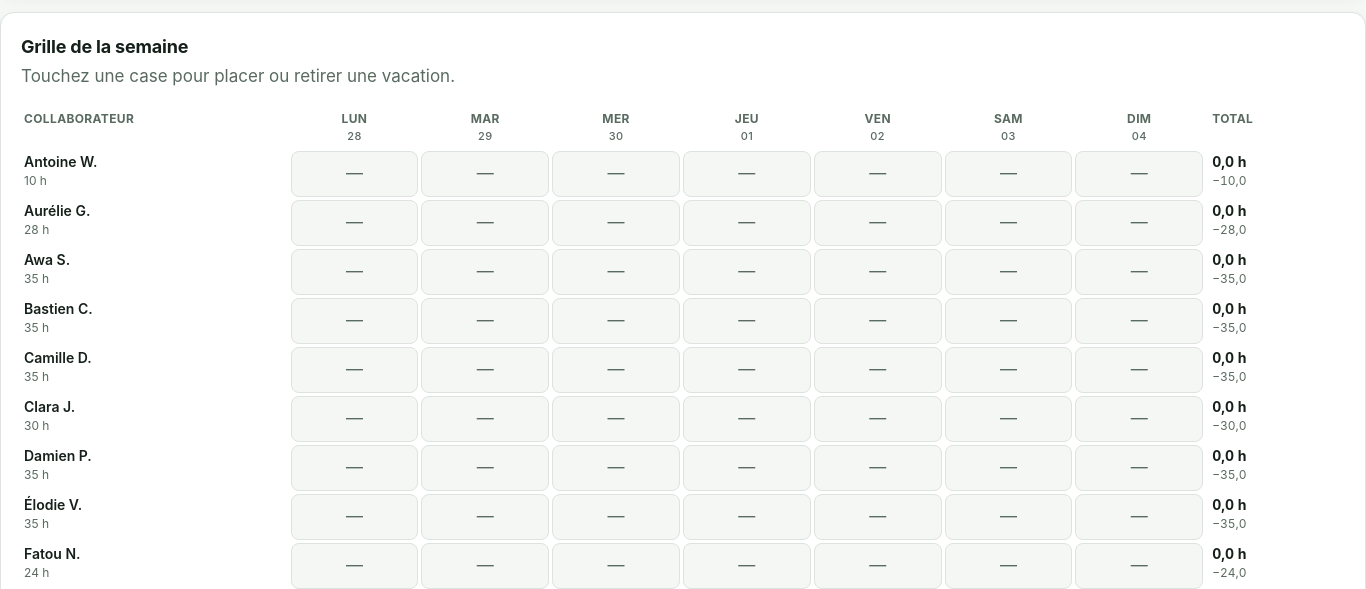
Test case: contenu du dossier à présenter › montre les indicateurs utiles au patron
(page scrolled)
Click the button named "Camille D., lundi".
click(354, 370)  # box [291,347,418,393]
(page scrolled)
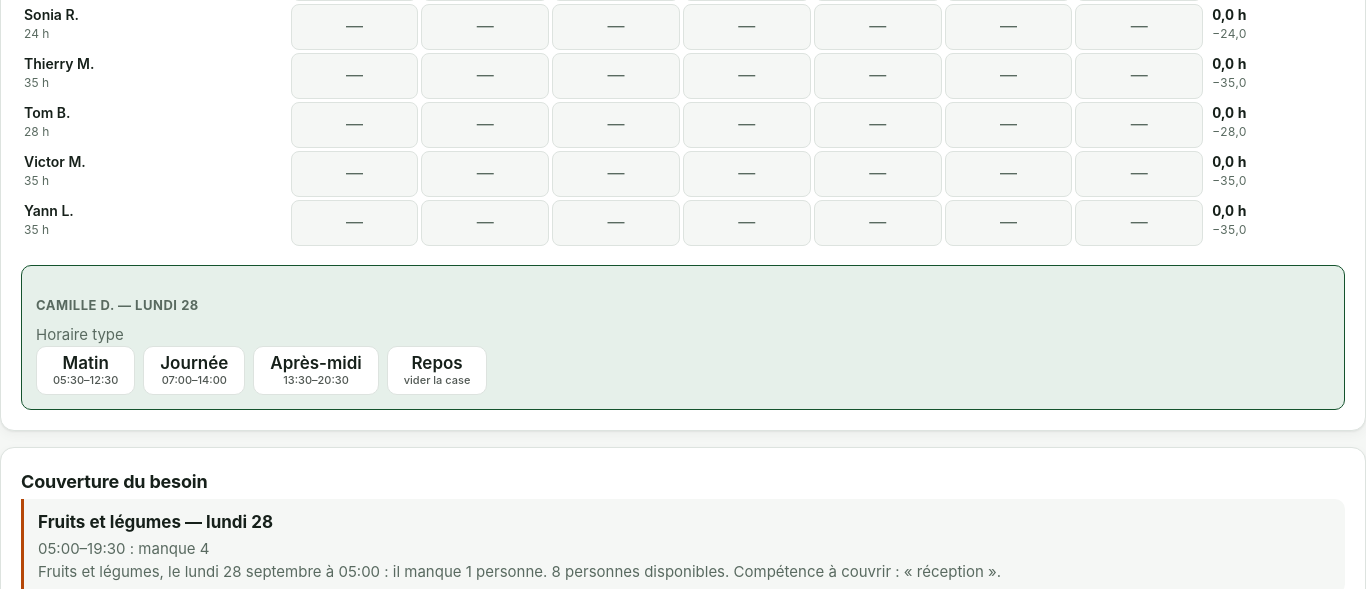
Click the button "Matin 05:30–12:30".
click(86, 370)  # box [36,346,135,395]
(page scrolled)
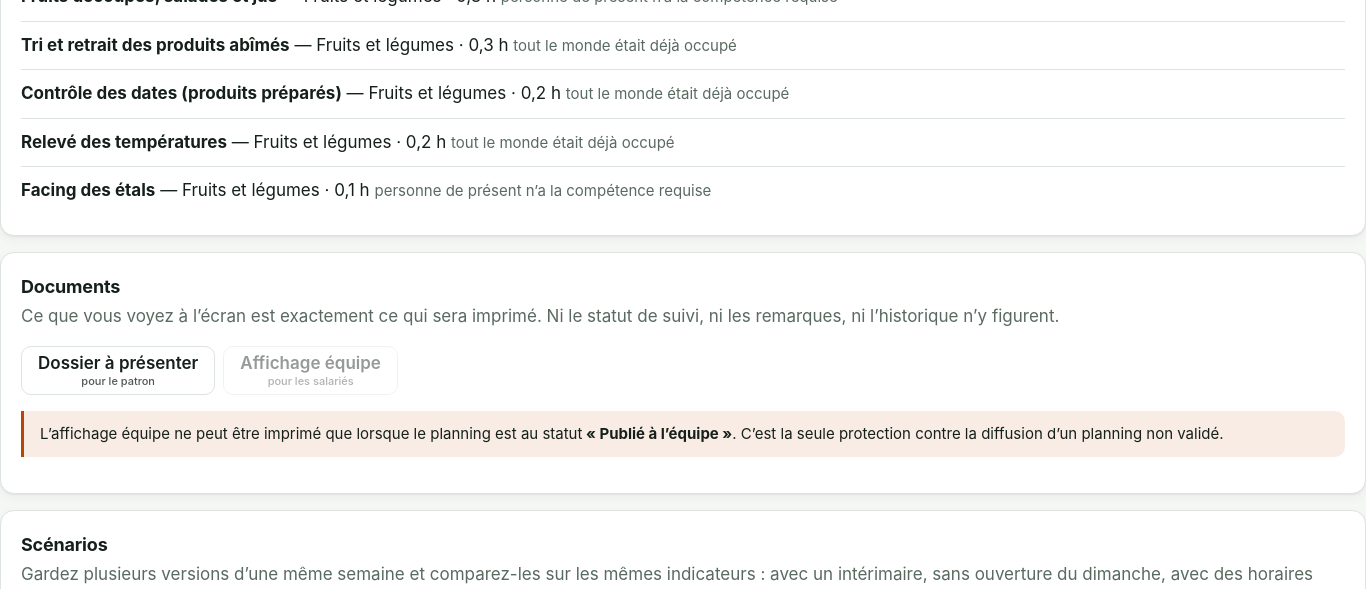
Click the button "Dossier à présenter pour le patron".
click(118, 370)  # box [21,346,215,395]
(page scrolled)
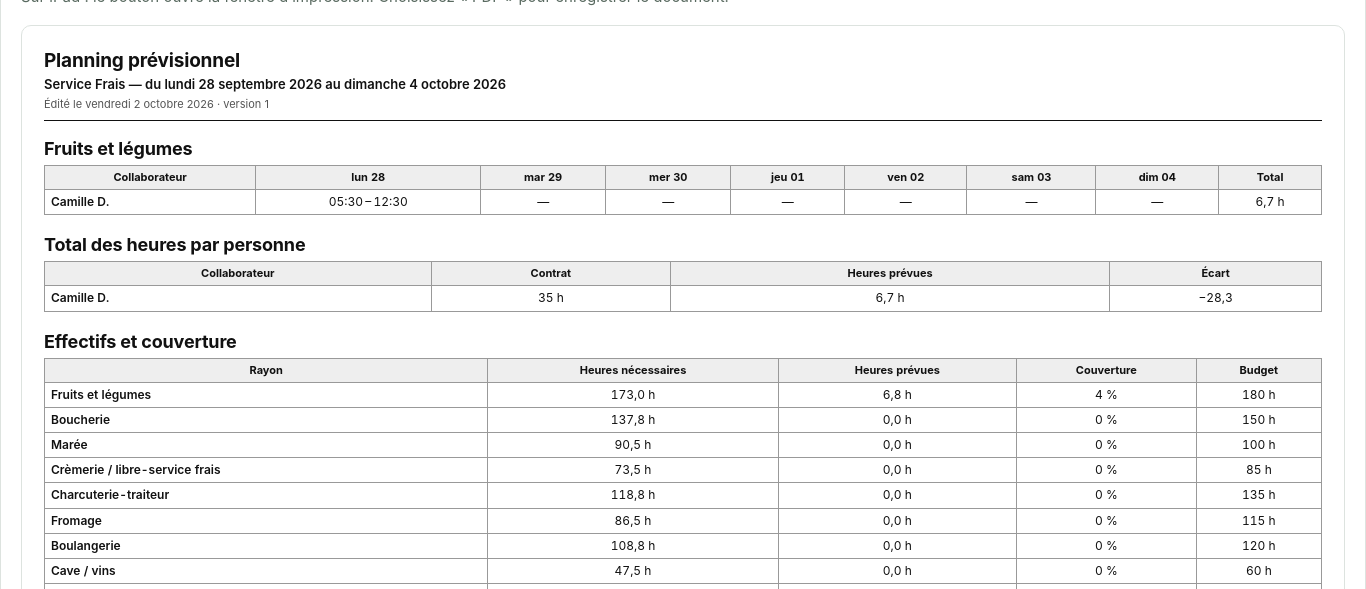
Check: the heading "Effectifs et couverture" is shown, box [44,330,237,352]
Check: the column heading "Heures nécessaires" is shown, box [488,358,778,382]
Check: the column heading "Budget" is shown, box [1196,358,1322,382]
